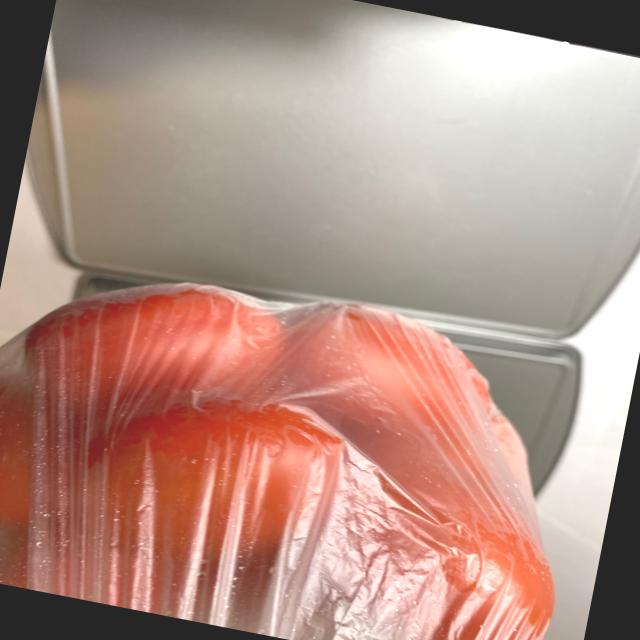tomato: (0, 240, 600, 640)
